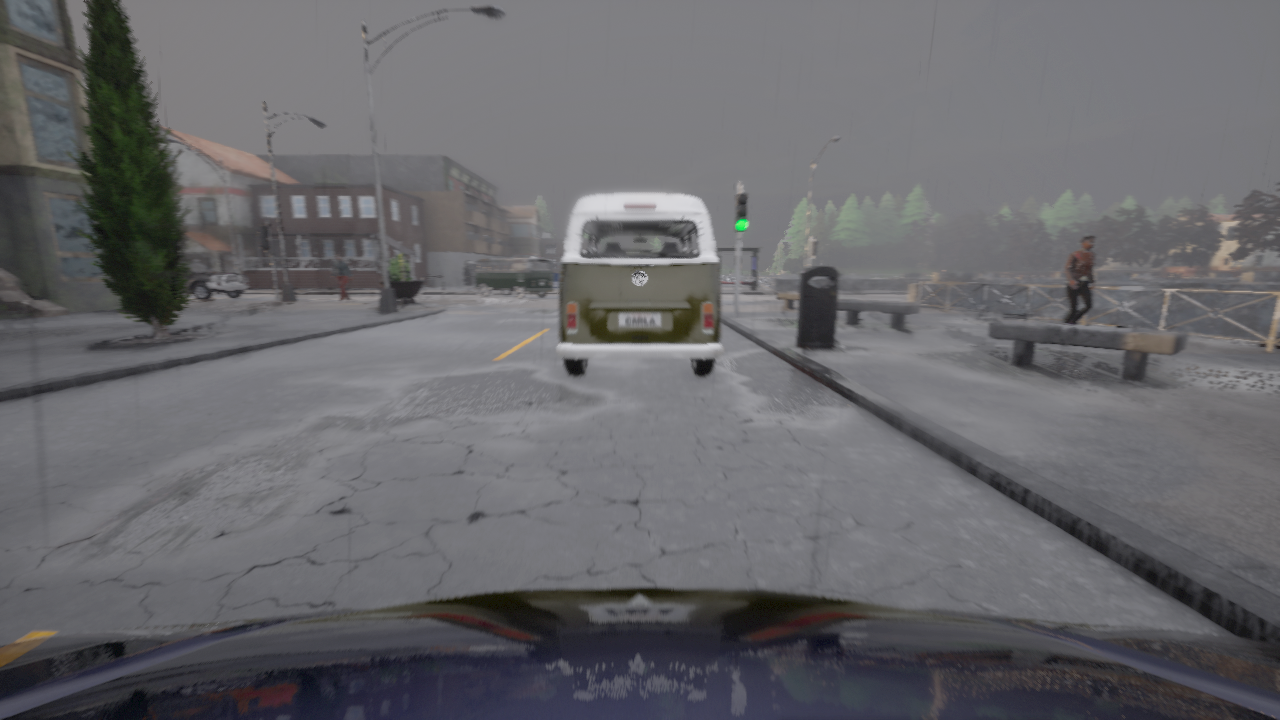cyclist: (0, 588, 1279, 719), (556, 193, 723, 376), (474, 258, 552, 298), (179, 259, 248, 299)
pedestrian: (1062, 235, 1096, 324), (332, 254, 351, 301)
